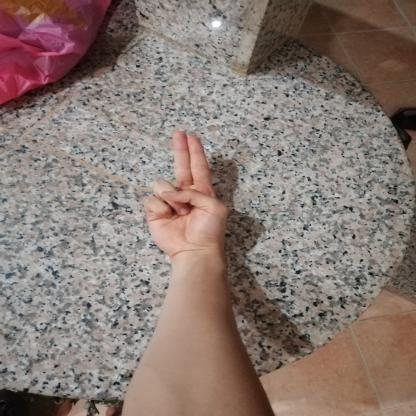TA: (132, 120, 235, 262)
